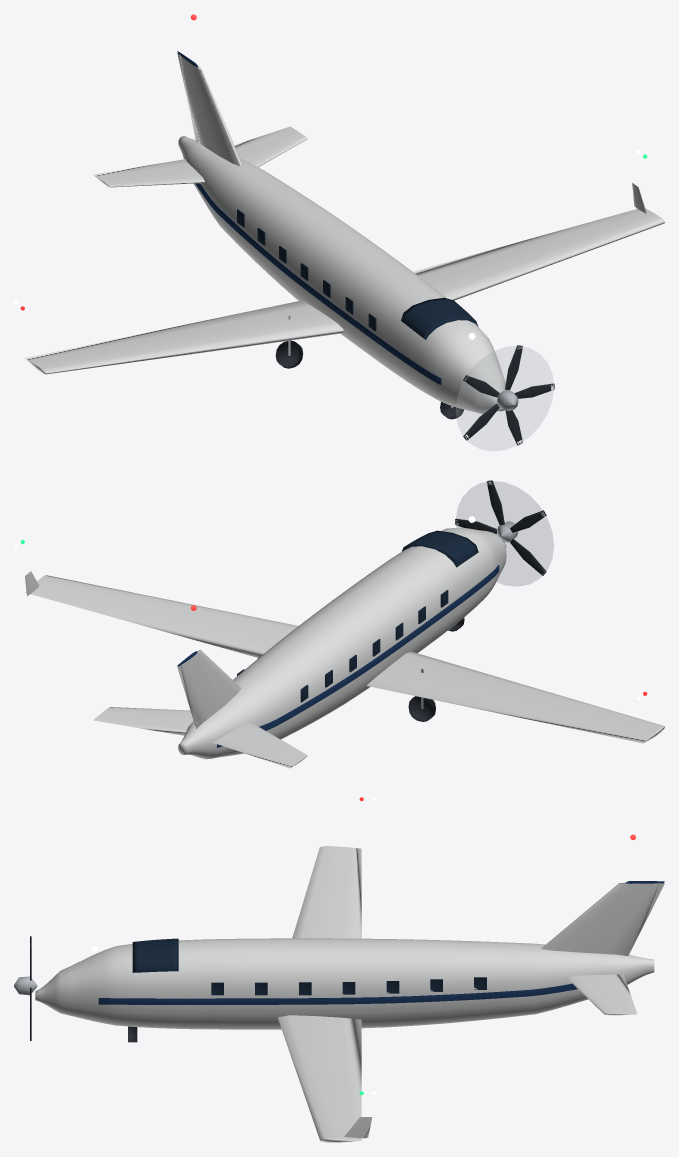
The picture shows the model from 3 angles, top to bottom: view 1: azimuth 30°, elevation 25°; view 2: azimuth 150°, elevation 25°; view 3: azimuth 270°, elevation 25°; orthographic projection. The views are drawn at different scales.
Parts seen in each view (by area): view 1: body, disc0, prop0, gearL; view 2: body, disc0, prop0, gearL; view 3: body, prop0.
Boxes of the visible parts, <box> form: body: <box>25,51,664,413</box>; disc0: <box>456,346,553,451</box>; prop0: <box>463,345,554,445</box>; gearL: <box>275,315,303,368</box>; body: <box>25,527,664,768</box>; disc0: <box>456,481,553,586</box>; prop0: <box>455,480,546,575</box>; gearL: <box>408,669,435,721</box>; body: <box>35,846,664,1142</box>; prop0: <box>14,936,37,1040</box>.
Bounding box in the file's own units: 16.5 × 5.46 × 15.35.
